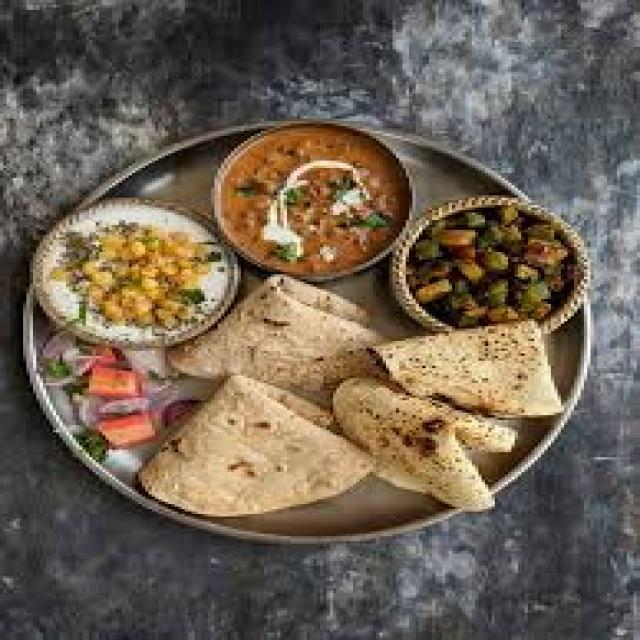papad: (179, 268, 387, 388), (370, 321, 570, 422)
rice: (27, 204, 238, 348)
roti: (156, 392, 361, 526)
veg-fry: (205, 113, 423, 286), (388, 190, 600, 341)
